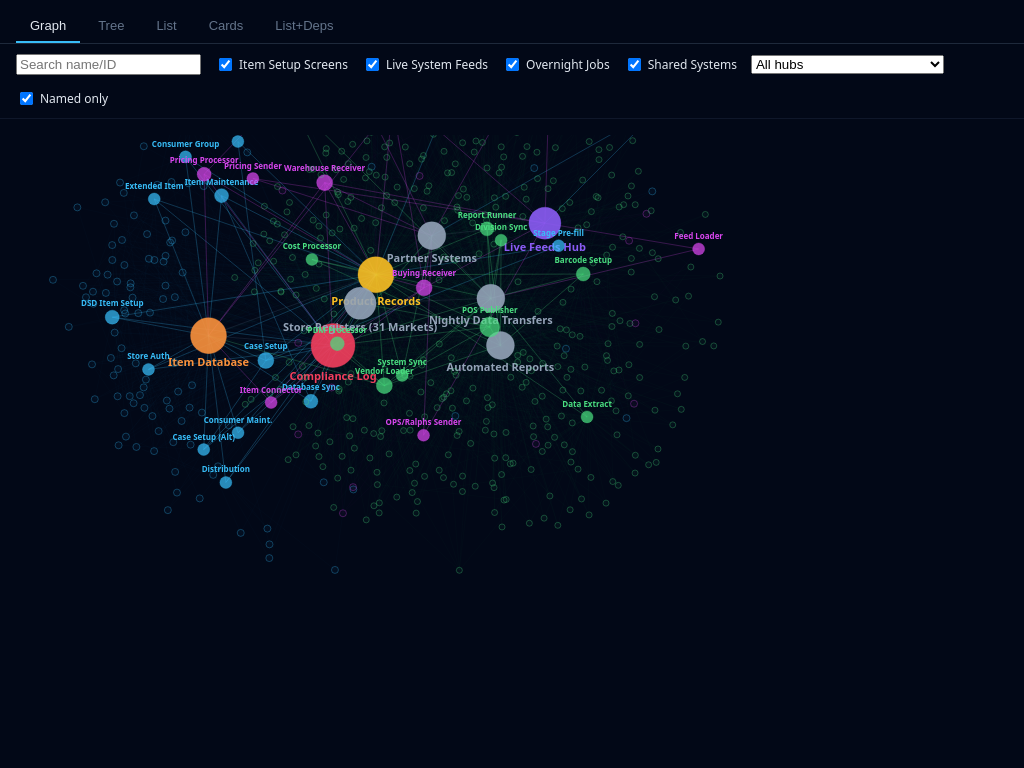
Test: App › switching to Tree shows category roots
Click the button "Tree".
click(111, 26)  # box [84,10,138,43]
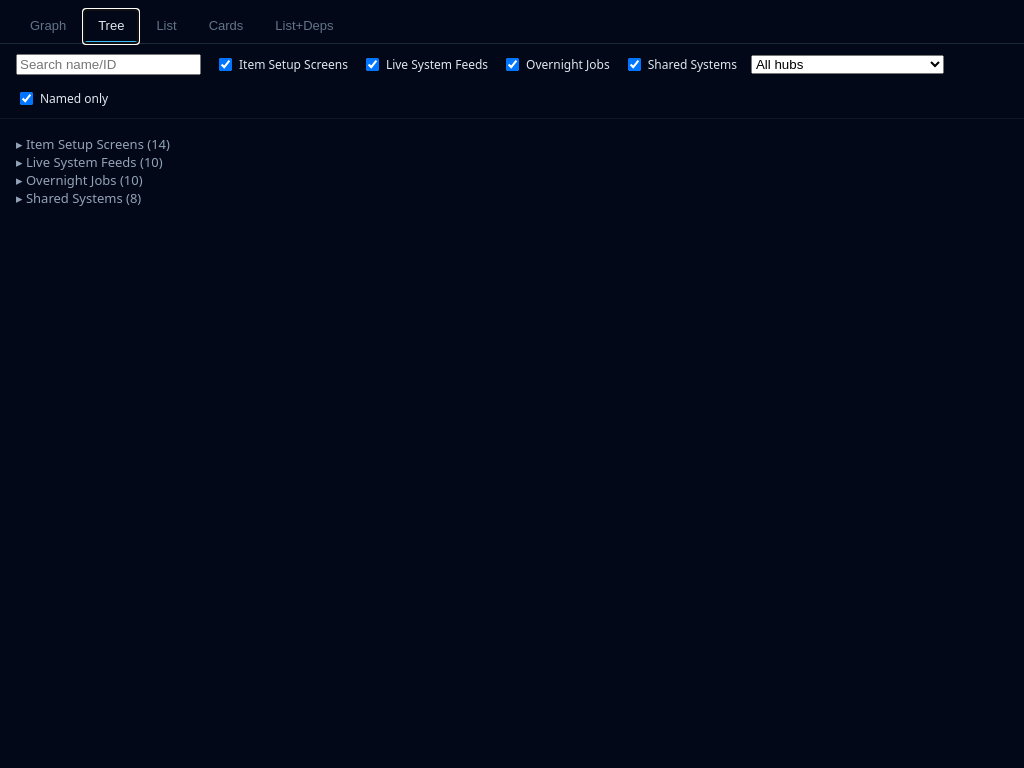
Now the text "Overnight Jobs" is shown, box [26,171,116,189]
